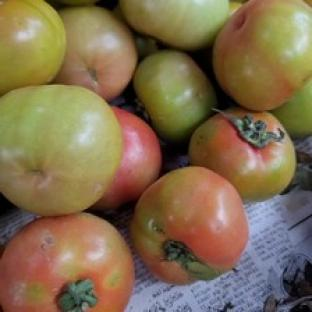Tomato: (0, 84, 122, 215), (131, 166, 249, 284), (0, 214, 135, 311), (189, 108, 296, 201), (133, 49, 217, 143), (55, 5, 137, 100), (92, 106, 162, 210), (271, 80, 311, 137)
